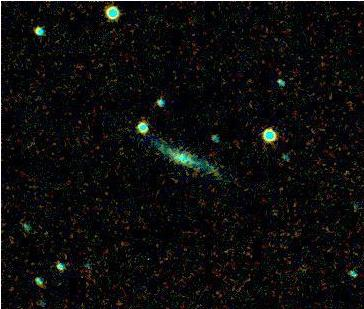star: (260, 197, 290, 227)
